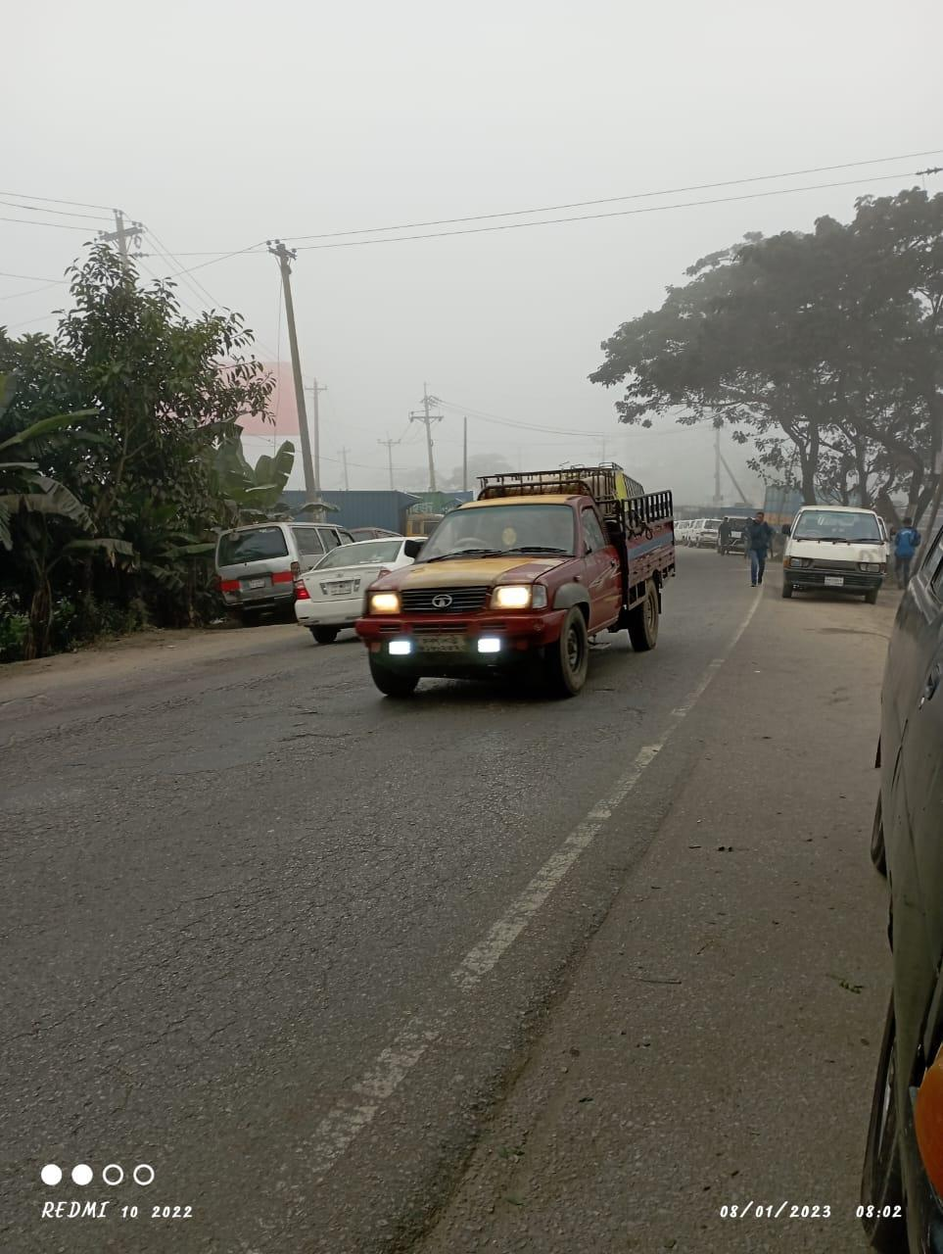Car: (778, 485, 889, 612), (287, 533, 403, 647), (215, 510, 303, 622)
Truck: (357, 463, 678, 693)
